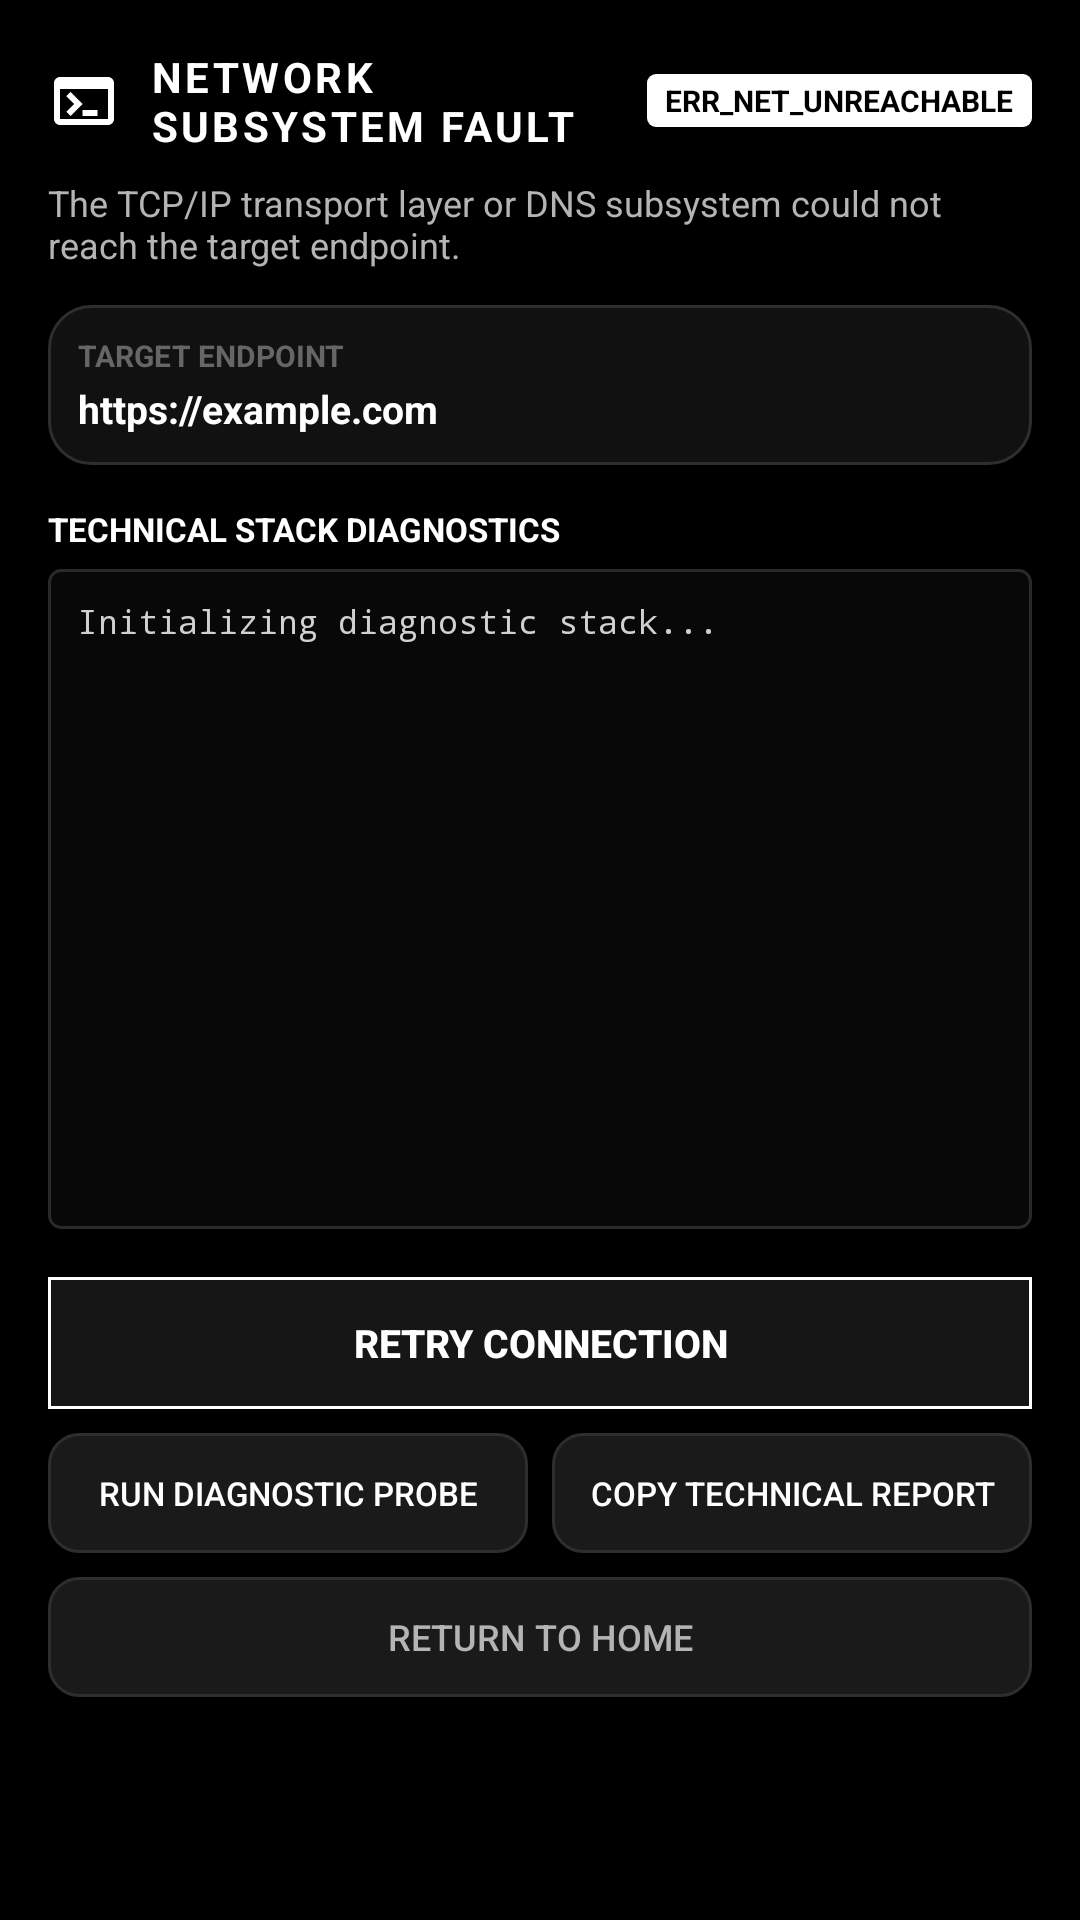

Screen size 1080 x 1920. Icon name, then its center in pixels as point (x, y):
terminal: point (84, 101)
